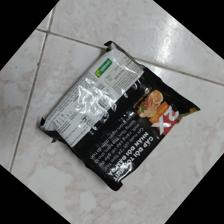3mien: (37, 41, 202, 192)
